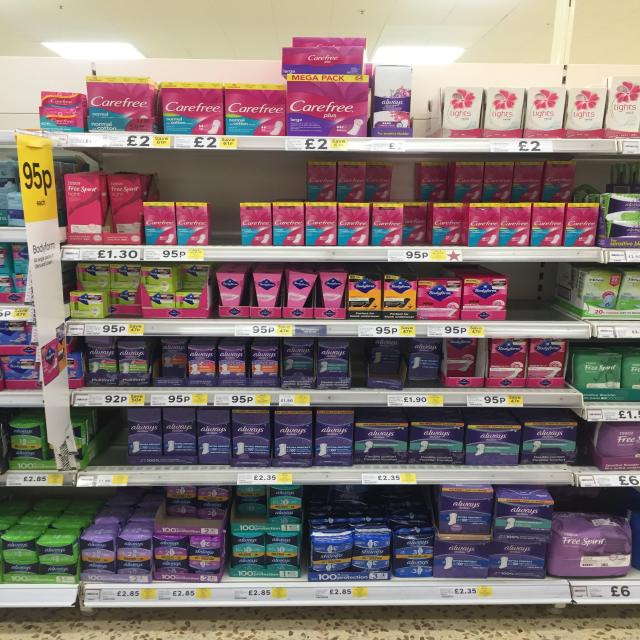empty_space: (516, 277, 558, 311), (212, 196, 236, 239), (102, 420, 126, 454)
